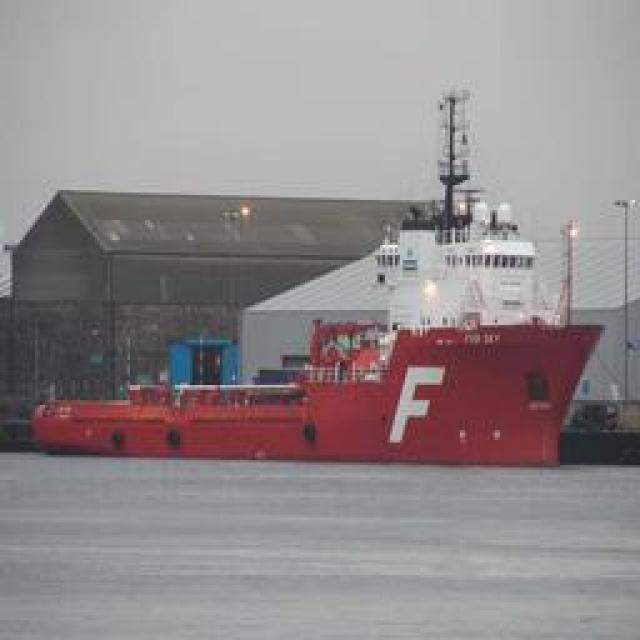ship2: (32, 91, 606, 468)
